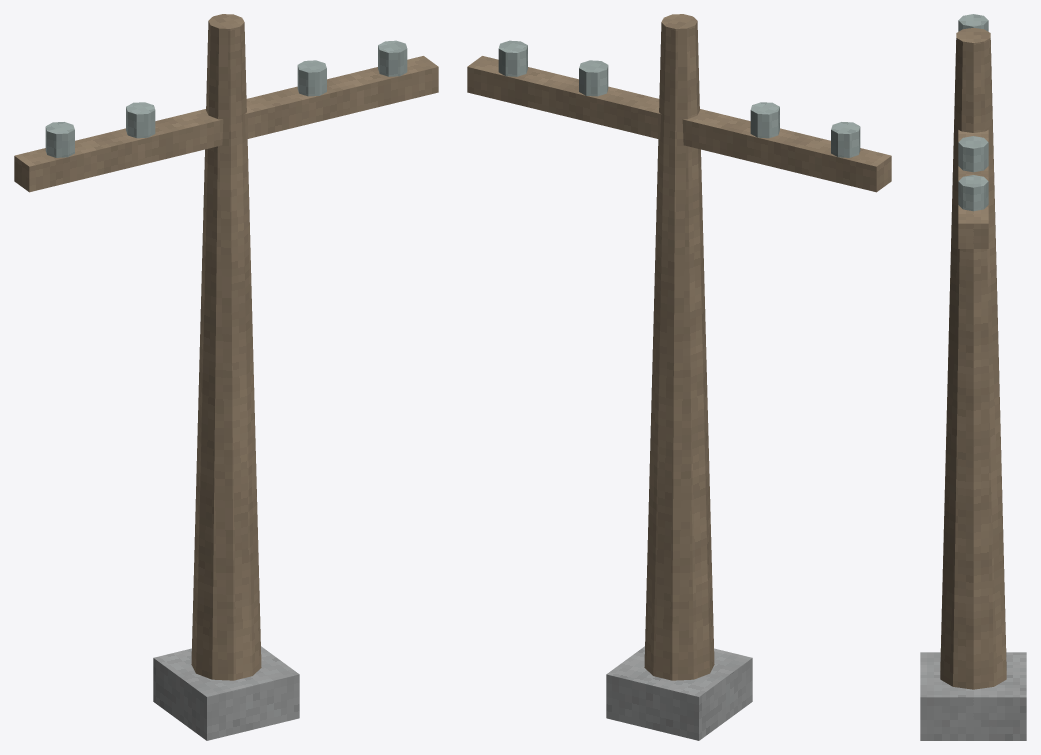
The model's file is level_blockout_rail_telegraph_pole.glb.
3 views of the same model, side by side, from view 1: azimuth 30°, elevation 25°; view 2: azimuth 150°, elevation 25°; view 3: azimuth 270°, elevation 25° (orthographic).
Visible parts, largest first — view 1: level_blockout_rail_telegraph_pole; view 2: level_blockout_rail_telegraph_pole; view 3: level_blockout_rail_telegraph_pole.
Part boxes in pixels (bbox=[...]): level_blockout_rail_telegraph_pole: bbox=[14, 14, 438, 740]; level_blockout_rail_telegraph_pole: bbox=[467, 14, 891, 740]; level_blockout_rail_telegraph_pole: bbox=[920, 14, 1026, 740].
Size of the model in its own units: 2.34 by 3.76 by 0.53.
Materials: 3 (3 with a texture image).
